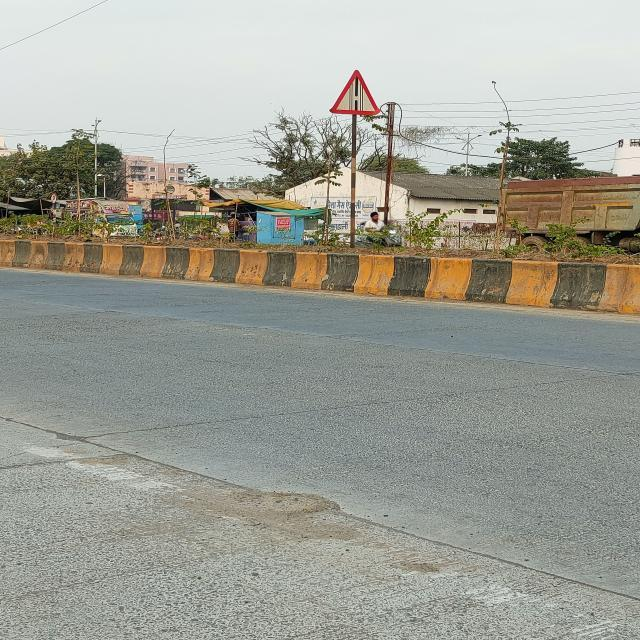gap in median: (328, 69, 383, 117)
